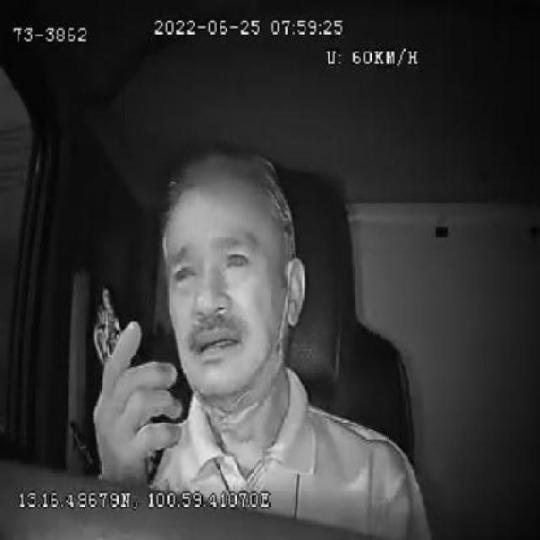phone: (91, 282, 164, 480)
